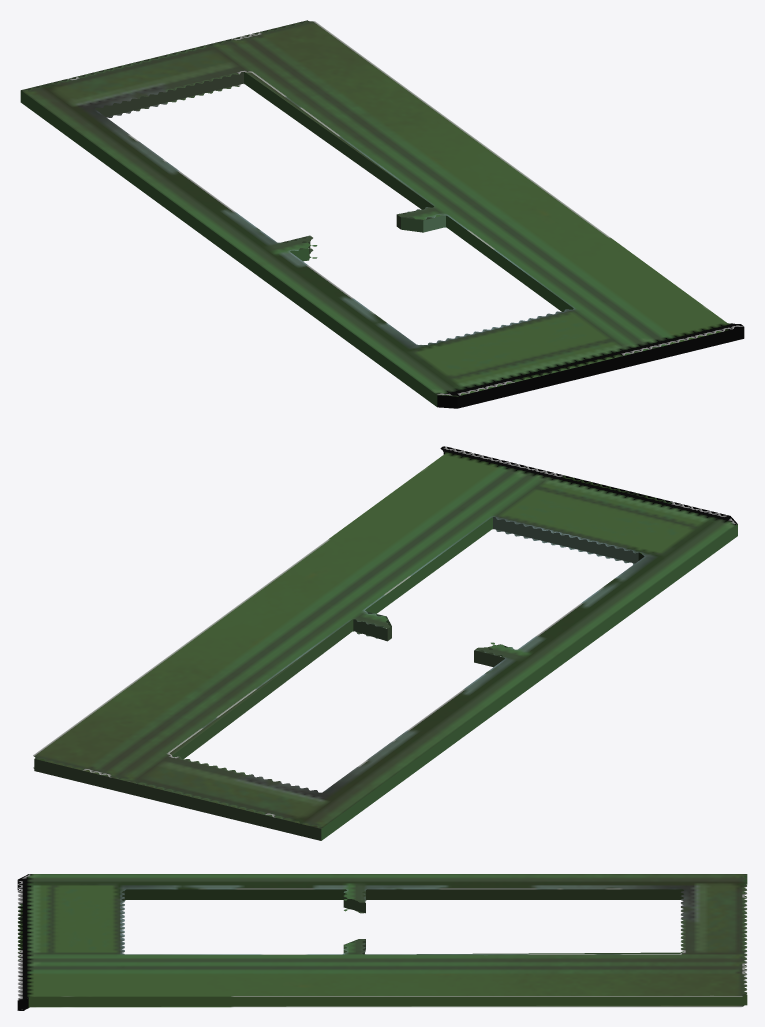
The model's file is pz_native_location_shop_greenes_01_69_frame.obj.
The picture shows the model from 3 angles, top to bottom: view 1: azimuth 30°, elevation 25°; view 2: azimuth 150°, elevation 25°; view 3: azimuth 270°, elevation 25°; orthographic projection. The views are drawn at different scales.
Parts seen in each view (by area): view 1: pz_native_location_shop_greenes_01_69_frame; view 2: pz_native_location_shop_greenes_01_69_frame; view 3: pz_native_location_shop_greenes_01_69_frame.
Boxes of the visible parts, x1,y1,x2,y2 form: pz_native_location_shop_greenes_01_69_frame: (20, 20, 744, 408); pz_native_location_shop_greenes_01_69_frame: (33, 446, 737, 840); pz_native_location_shop_greenes_01_69_frame: (17, 874, 747, 1010).
Bounding box in the file's own units: 1.06 × 0.04 × 2.54.
Materials: 1 (1 with a texture image).
